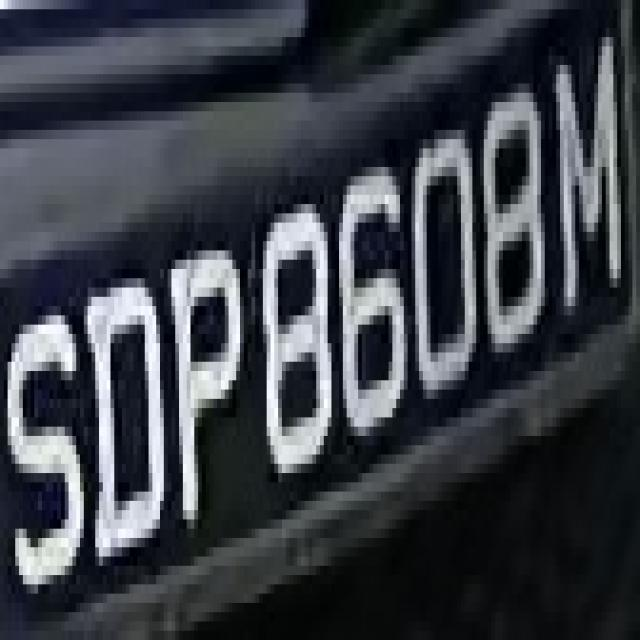0: (404, 120, 484, 418)
6: (332, 148, 408, 454)
8: (255, 195, 335, 501), (472, 83, 552, 362)
D: (80, 278, 175, 566)
M: (541, 56, 621, 343)
P: (168, 232, 248, 538)
S: (4, 296, 84, 594)
